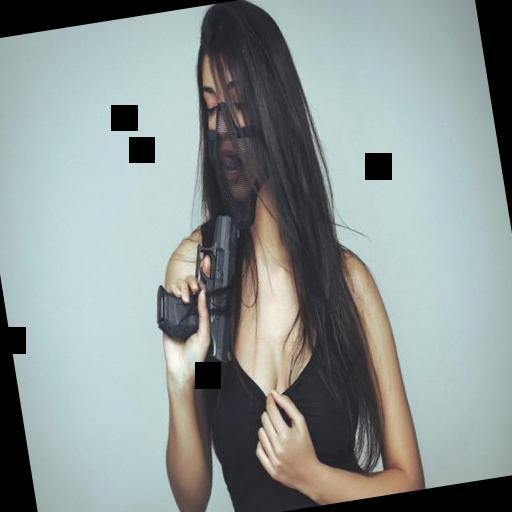Handgun: (142, 208, 260, 368)
